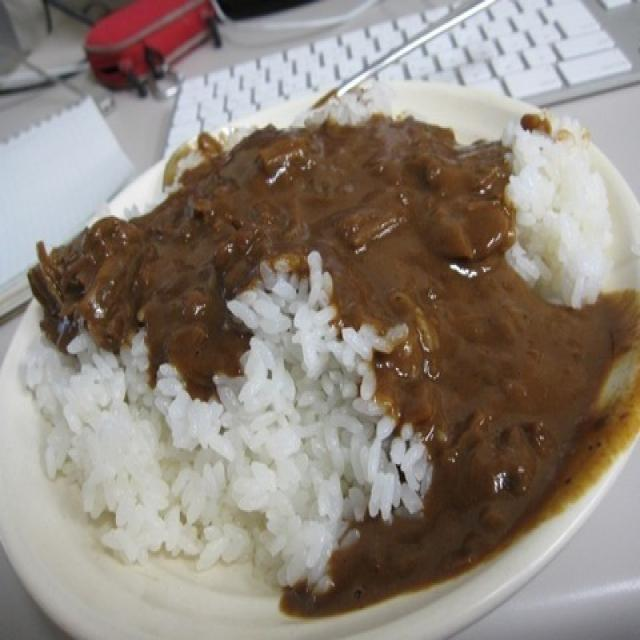Beef Curry: (94, 128, 469, 344)
Rice: (51, 353, 367, 562)
